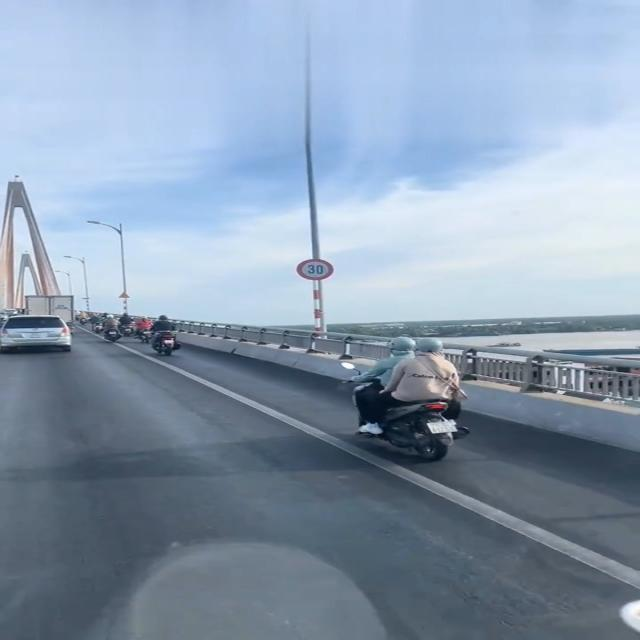127-toc-do-toi-da-30: (296, 258, 336, 282)
